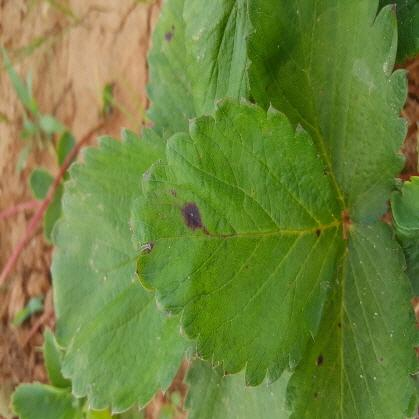Leaf Spot: (128, 95, 346, 387), (245, 0, 409, 221), (284, 217, 418, 418), (141, 0, 253, 140)
